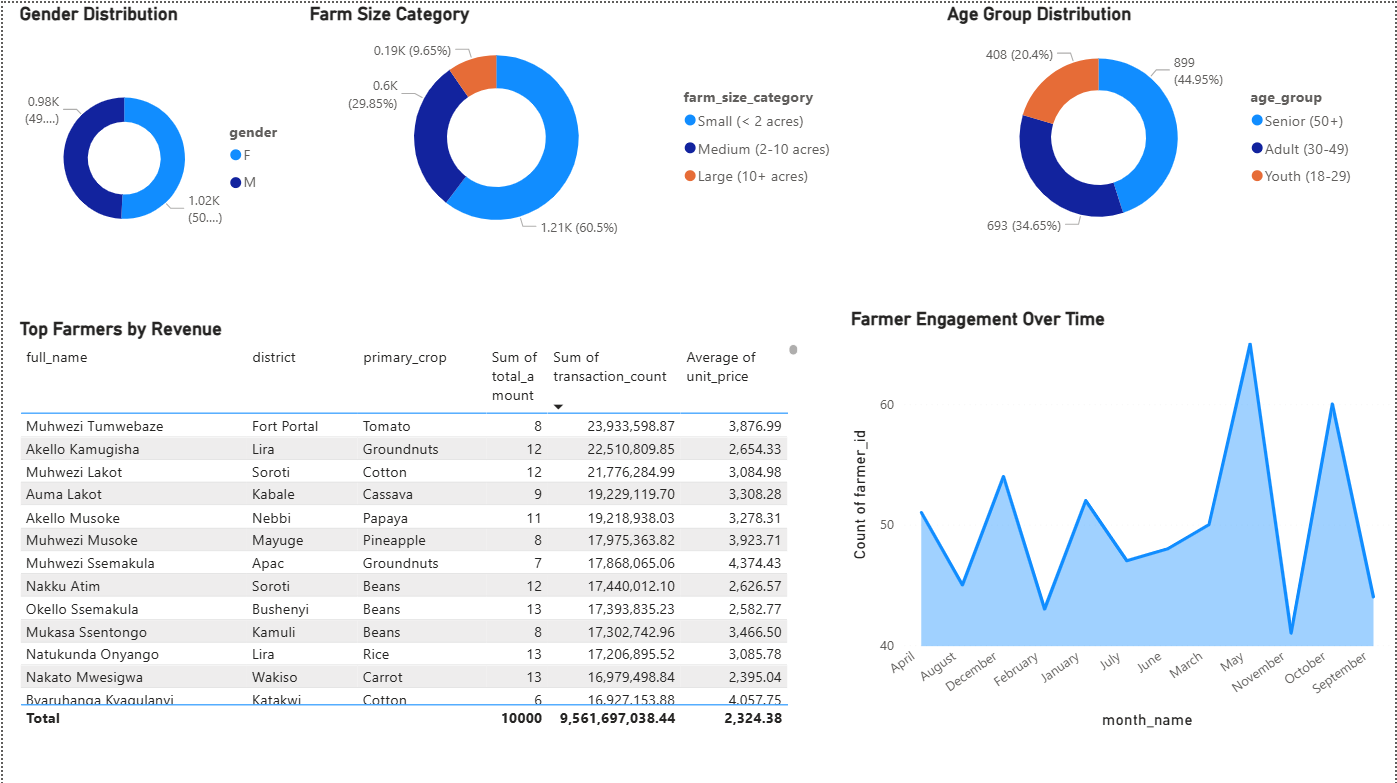

What the dashboard file says about the page in this screenshot:
{"tool":"powerbi","page":{"name":"Farmer Analytics","canvas":[1280,720],"ordinal":1},"visuals":[{"type":"donutChart","title":"Gender Distribution","fields":{"Category":["dw dim_farmer.gender"],"Y":["Count(dw dim_farmer.farmer_id)"]},"box":[10.3,0,266.7,266.7],"z":0},{"type":"donutChart","title":"Farm Size Category","fields":{"Category":["dw dim_farmer.farm_size_category"],"Y":["Count(dw dim_farmer.farmer_id)"]},"box":[277,0,497.7,228.7],"z":1000},{"type":"donutChart","title":"Age Group Distribution","fields":{"Category":["dw dim_farmer.age_group"],"Y":["CountNonNull(dw dim_farmer.farmer_id)"]},"box":[863.2,0,390.8,228.7],"z":2000},{"type":"tableEx","title":"Top  Farmers by Revenue","fields":{"Values":["dw dim_farmer.full_name","dw dim_farmer.district","dw dim_farmer.primary_crop","Sum(dw fact_transaction.transaction_count)","Sum(dw fact_transaction.total_amount)","Avg(dw fact_transaction.unit_price)"]},"box":[10,290,725.7,381.4],"z":3000},{"type":"areaChart","title":"Farmer Engagement Over Time","fields":{"Category":["dw dim_date.month_name","dw dim_date.year"],"Y":["CountNonNull(dw dim_farmer.farmer_id)"]},"box":[774.7,280.5,505.7,392],"z":4000}]}

Visuals, with their boxes in screenshot pixels (x1, y1, x2, y2), scaled from the page's 1280x720 canvas onto the 1397x783 screenshot:
"Gender Distribution" donutChart: 11/0/302/290
"Farm Size Category" donutChart: 302/0/846/249
"Age Group Distribution" donutChart: 942/0/1369/249
"Top  Farmers by Revenue" tableEx: 11/315/803/730
"Farmer Engagement Over Time" areaChart: 846/305/1396/731
